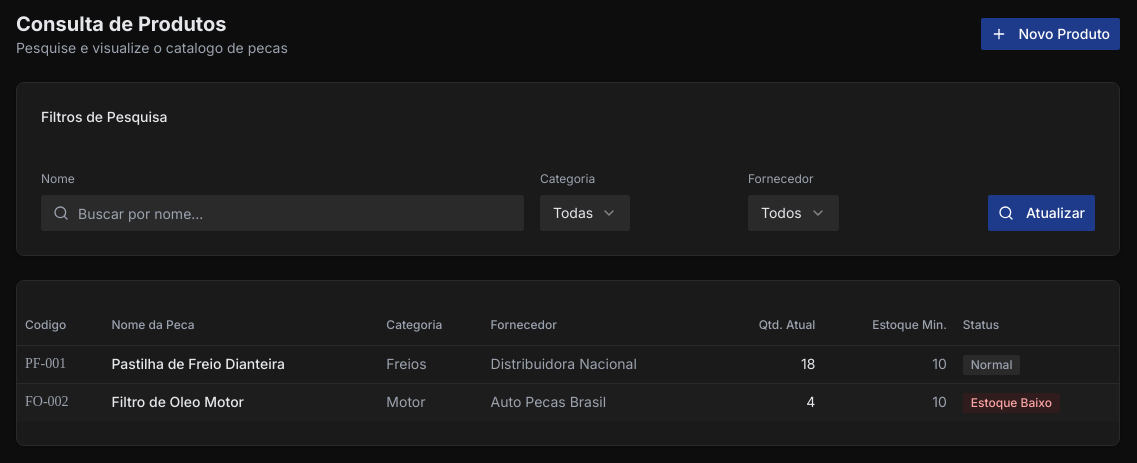
Test: ProductsScreen › loads products from the api and filters by product name
Later steps or results of the test are not shown.
Expected: the text "Pastilha de Freio Dianteira" is shown, [103, 345, 378, 383]
Expected: the text "Filtro de Oleo Motor" is shown, [103, 383, 378, 420]
Type "Filtro" into the field with placeholder "Buscar por nome...".
click(282, 213); type("Filtro")  # box [41, 195, 524, 231]
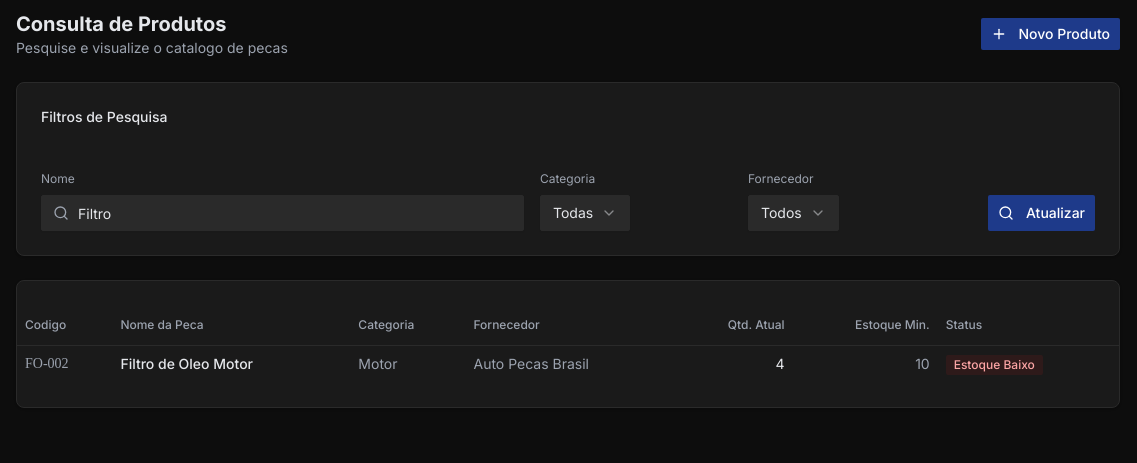
Expected: the text "Filtro de Oleo Motor" is shown, [112, 345, 350, 382]
Expected: the text "Pastilha de Freio Dianteira" is gone
